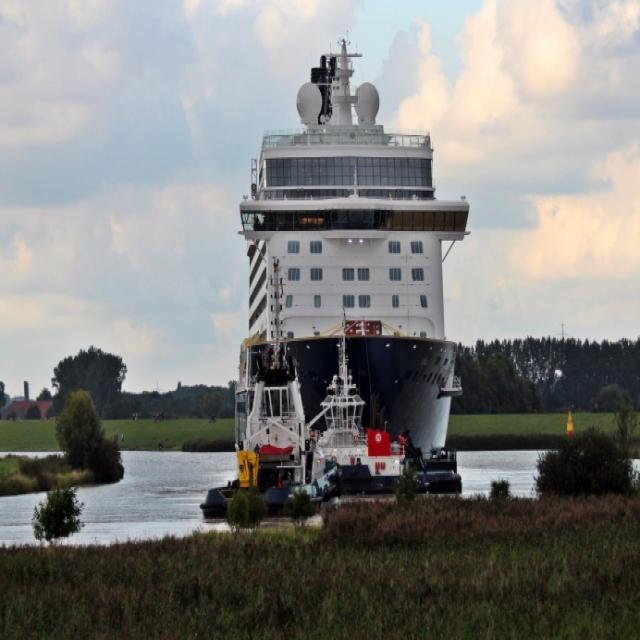cruises: (237, 26, 476, 499)
